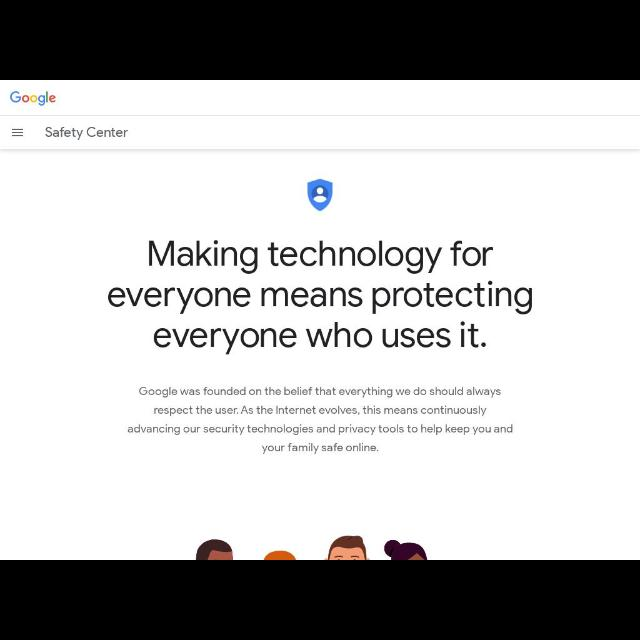icon: (11, 127, 25, 139)
image: (190, 539, 428, 559), (9, 89, 56, 107), (307, 180, 333, 210)
text: (109, 240, 534, 350), (128, 385, 512, 455), (45, 125, 127, 142)
toolbar: (1, 116, 639, 148)
